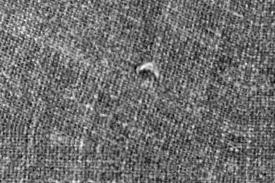snag: (132, 61, 164, 85)
